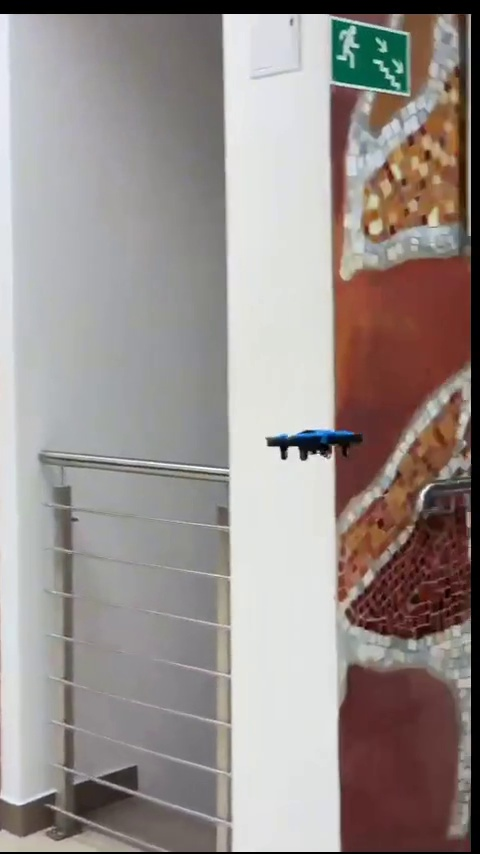drone: (262, 425, 357, 460)
